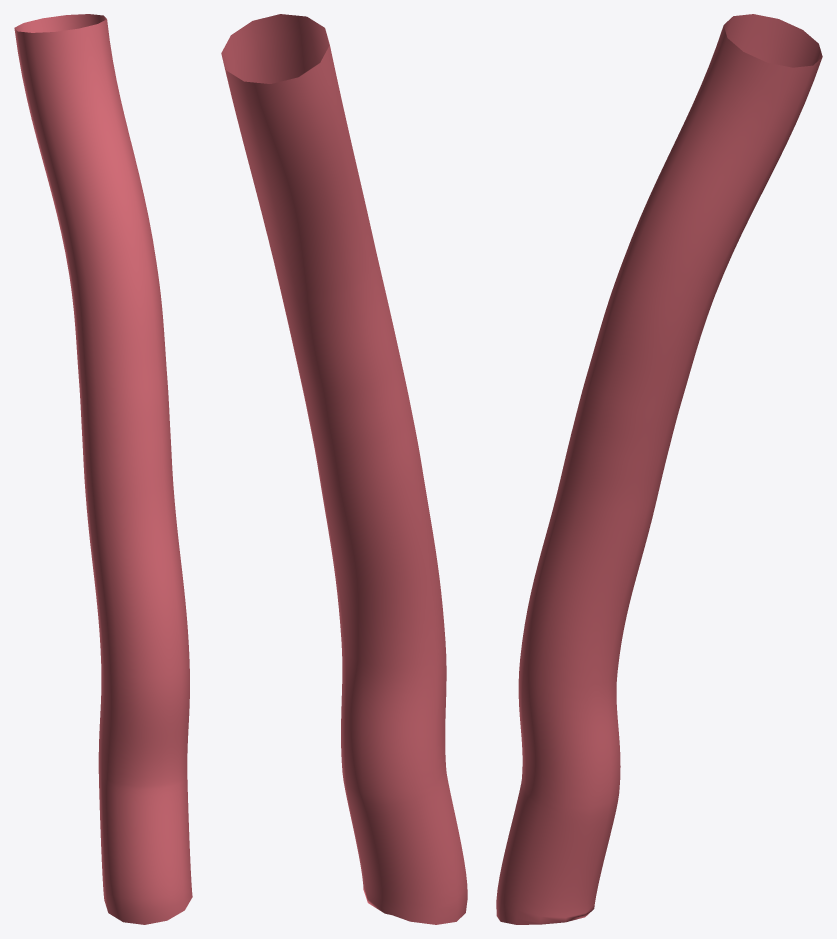
3 renders of one model, left to right at view 1: azimuth 30°, elevation 25°; view 2: azimuth 150°, elevation 25°; view 3: azimuth 270°, elevation 25°, orthographic. The views are drawn at different scales.
Parts seen in each view (by area): view 1: ZA_0b4adf3239e7f743; view 2: ZA_0b4adf3239e7f743; view 3: ZA_0b4adf3239e7f743.
Part boxes in pixels (bbox=[...]): ZA_0b4adf3239e7f743: bbox=[14, 14, 192, 924]; ZA_0b4adf3239e7f743: bbox=[221, 14, 467, 924]; ZA_0b4adf3239e7f743: bbox=[496, 14, 822, 924].
Bounding box in the file's own units: 0.0229 × 0.1819 × 0.0596.
